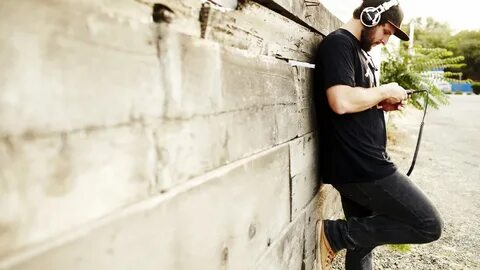awake: (314, 1, 443, 270)
